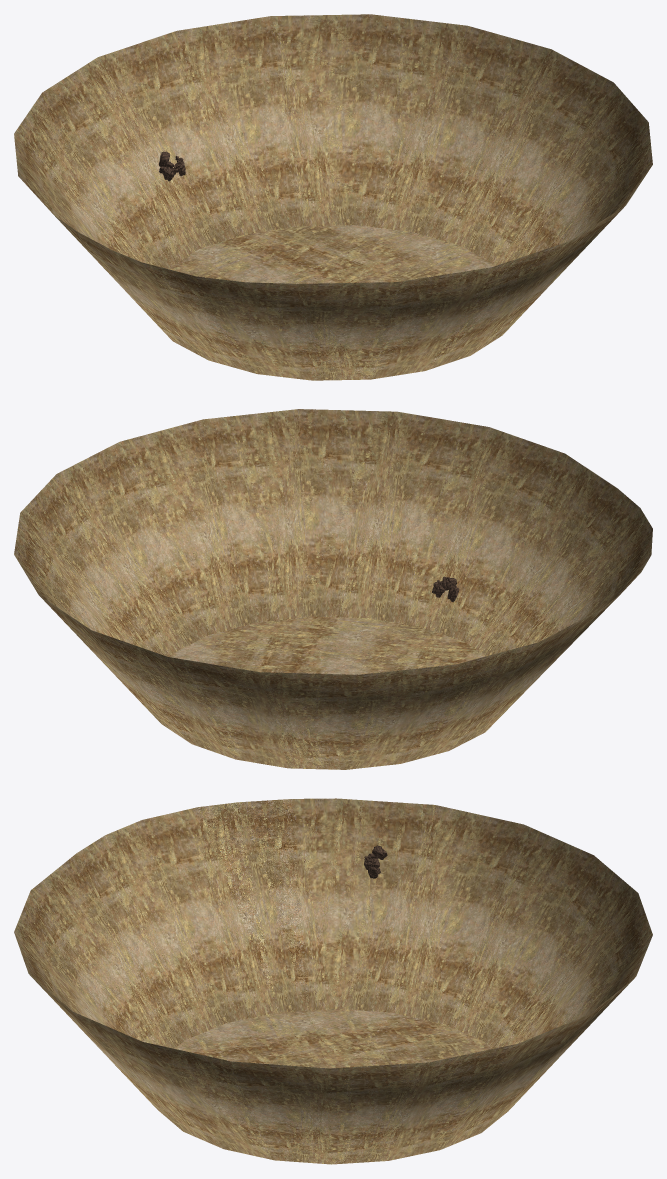
File: l11_15_distantview01.meshout.fbx
The picture shows the model from 3 angles, top to bottom: view 1: azimuth 30°, elevation 25°; view 2: azimuth 150°, elevation 25°; view 3: azimuth 270°, elevation 25°; orthographic projection.
Visible parts, largest first — view 1: LOD_1_Group_0_Sub_2__bossarea_rooptest_lambert41; view 2: LOD_1_Group_0_Sub_2__bossarea_rooptest_lambert41; view 3: LOD_1_Group_0_Sub_2__bossarea_rooptest_lambert41.
Part boxes in pixels (<box>): LOD_1_Group_0_Sub_2__bossarea_rooptest_lambert41: <box>14,14,652,380</box>; LOD_1_Group_0_Sub_2__bossarea_rooptest_lambert41: <box>14,409,652,769</box>; LOD_1_Group_0_Sub_2__bossarea_rooptest_lambert41: <box>14,798,652,1164</box>.
Size of the model in its own units: 166289 by 48512 by 166289.
